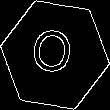O_S: (31, 26, 79, 84)
